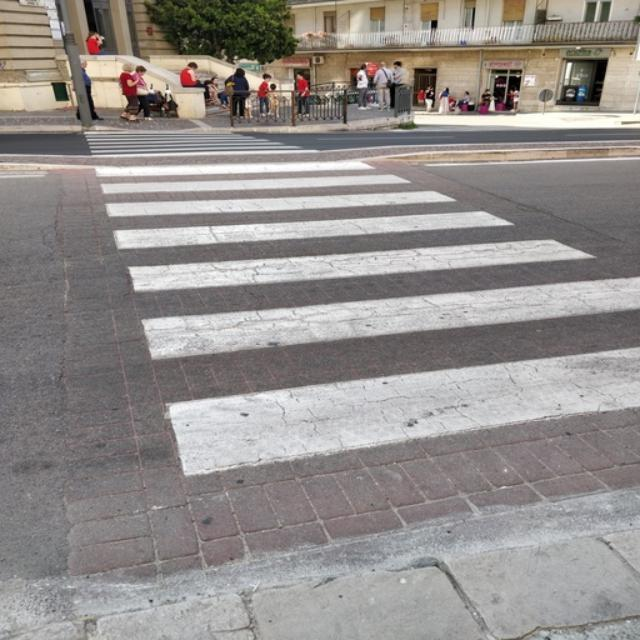sidewalk: (84, 146, 640, 592)
